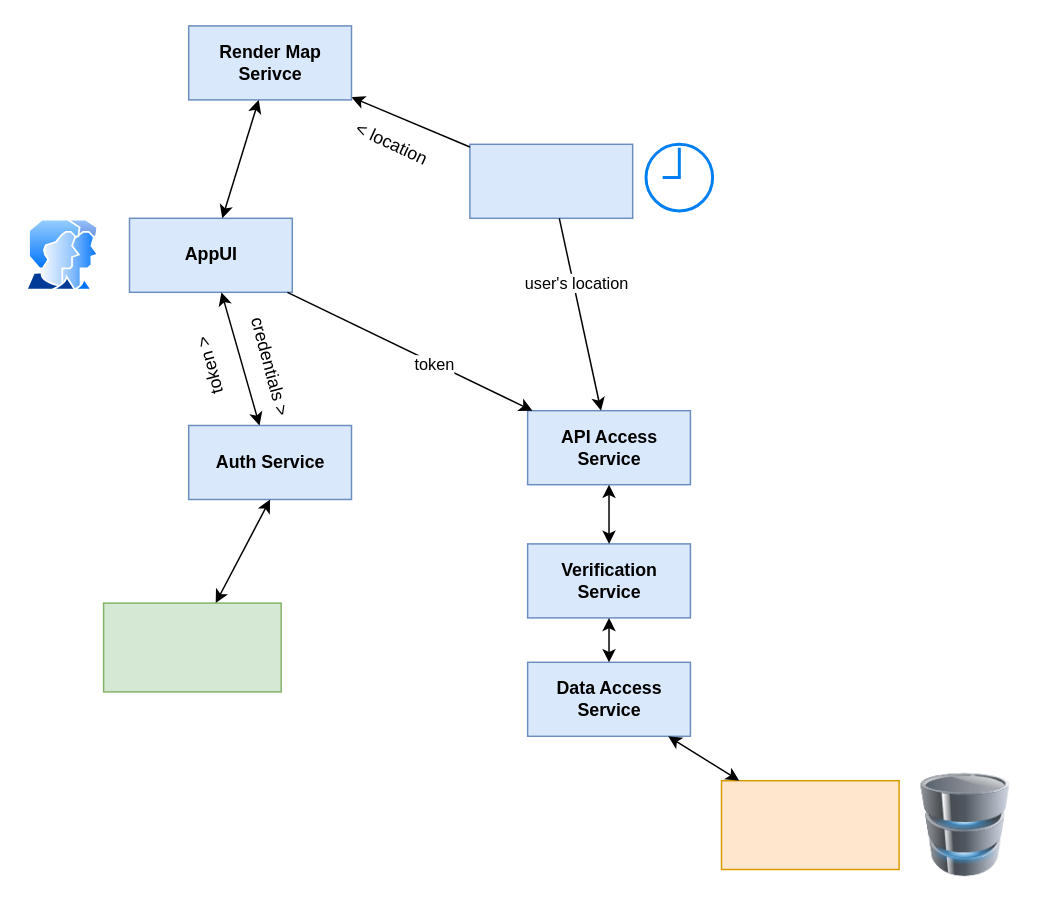
This 1042x903 diagram has some shape labels left out. Each missing label, with the centre of its shape:
"Database" goes at point 809,824.
"Geolication Service" goes at point 550,180.
"Google OAuth" goes at point 191,647.
